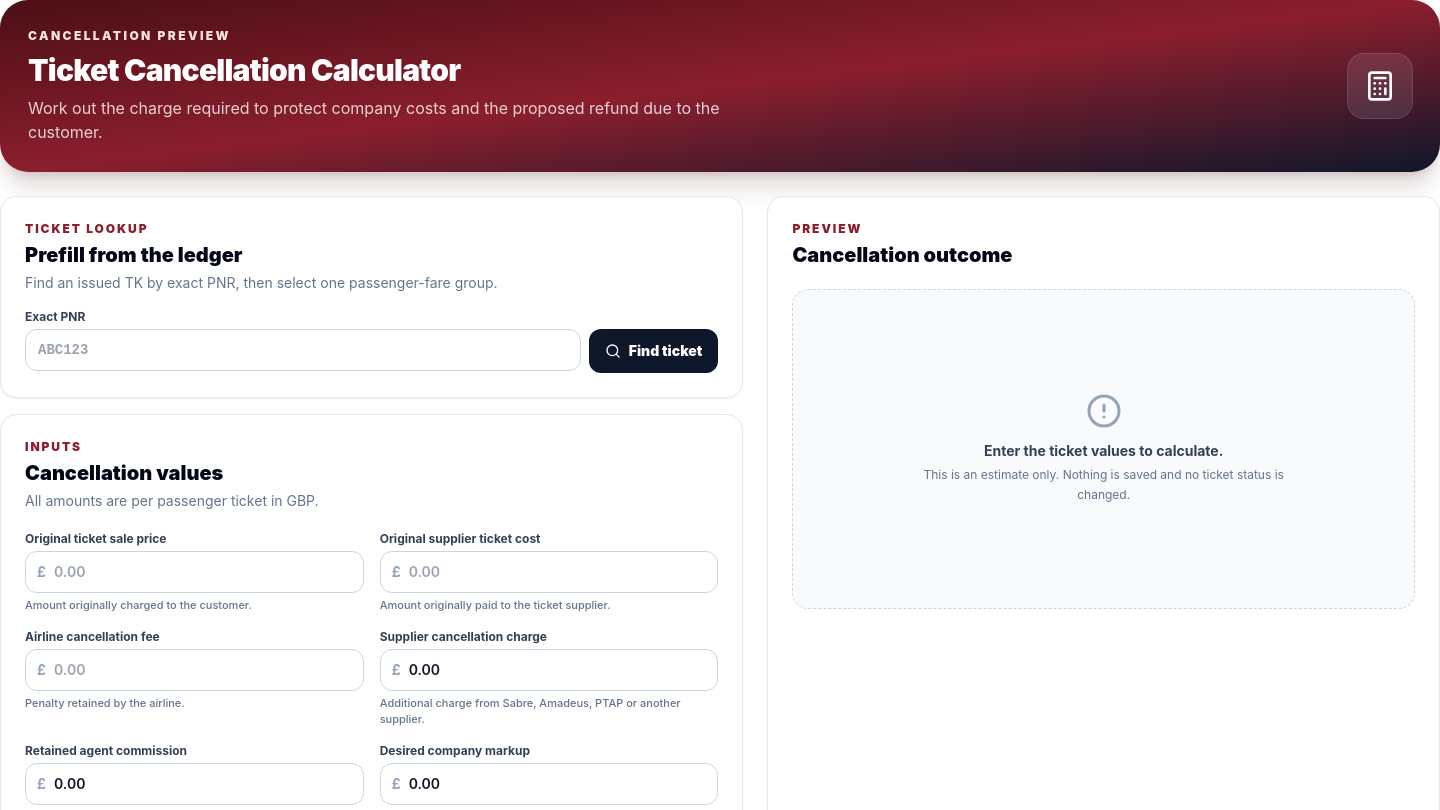
Test: TicketCancellationCalculator › requires review when charges exceed the sale price
In the field labelled "Original ticket sale price": (194, 572) [25,551,364,593], type "100.00"
In the field labelled "Original supplier ticket cost": (549, 572) [380,551,718,593], type "80.00"
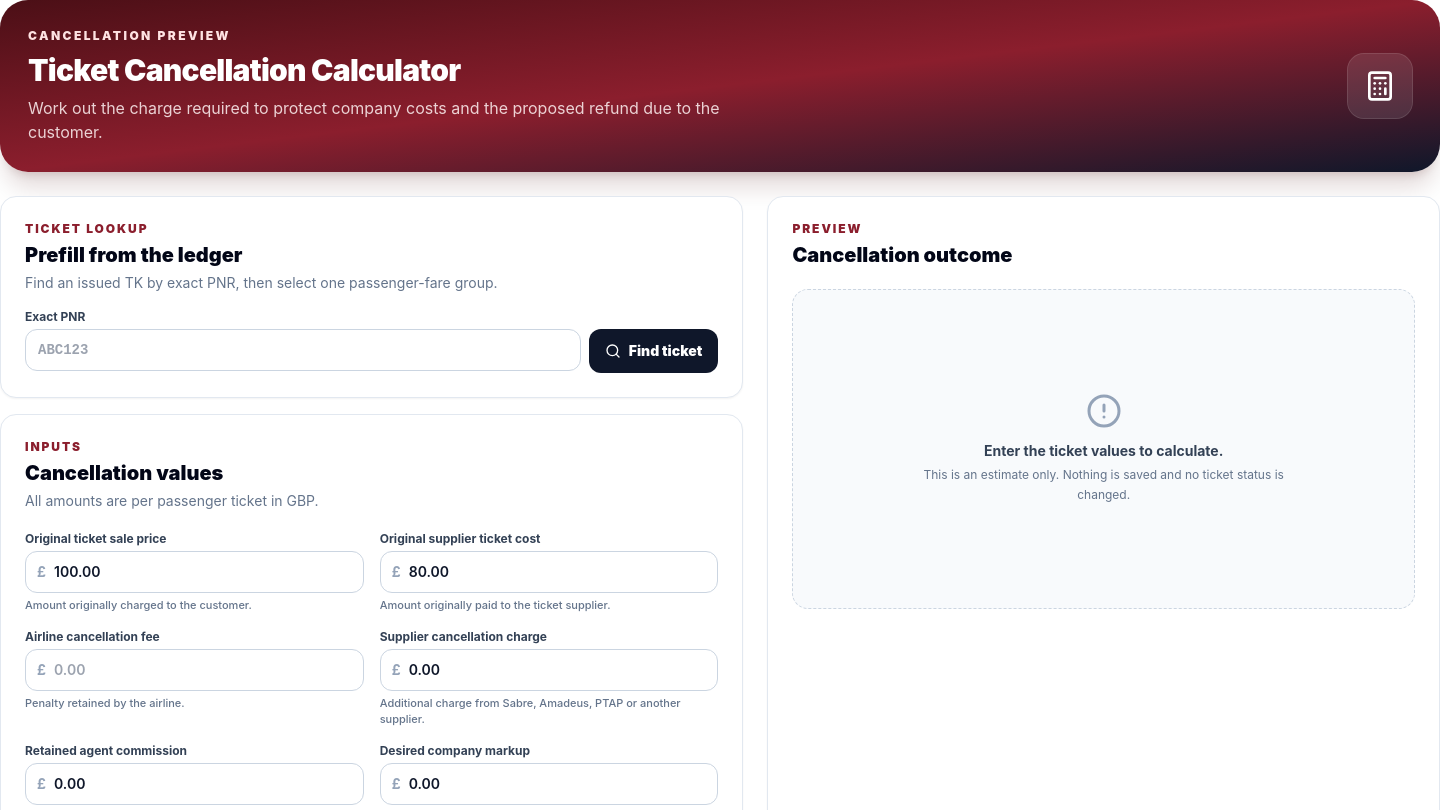
In the field labelled "Airline cancellation fee": (194, 670) [25,649,364,691], type "90.00"
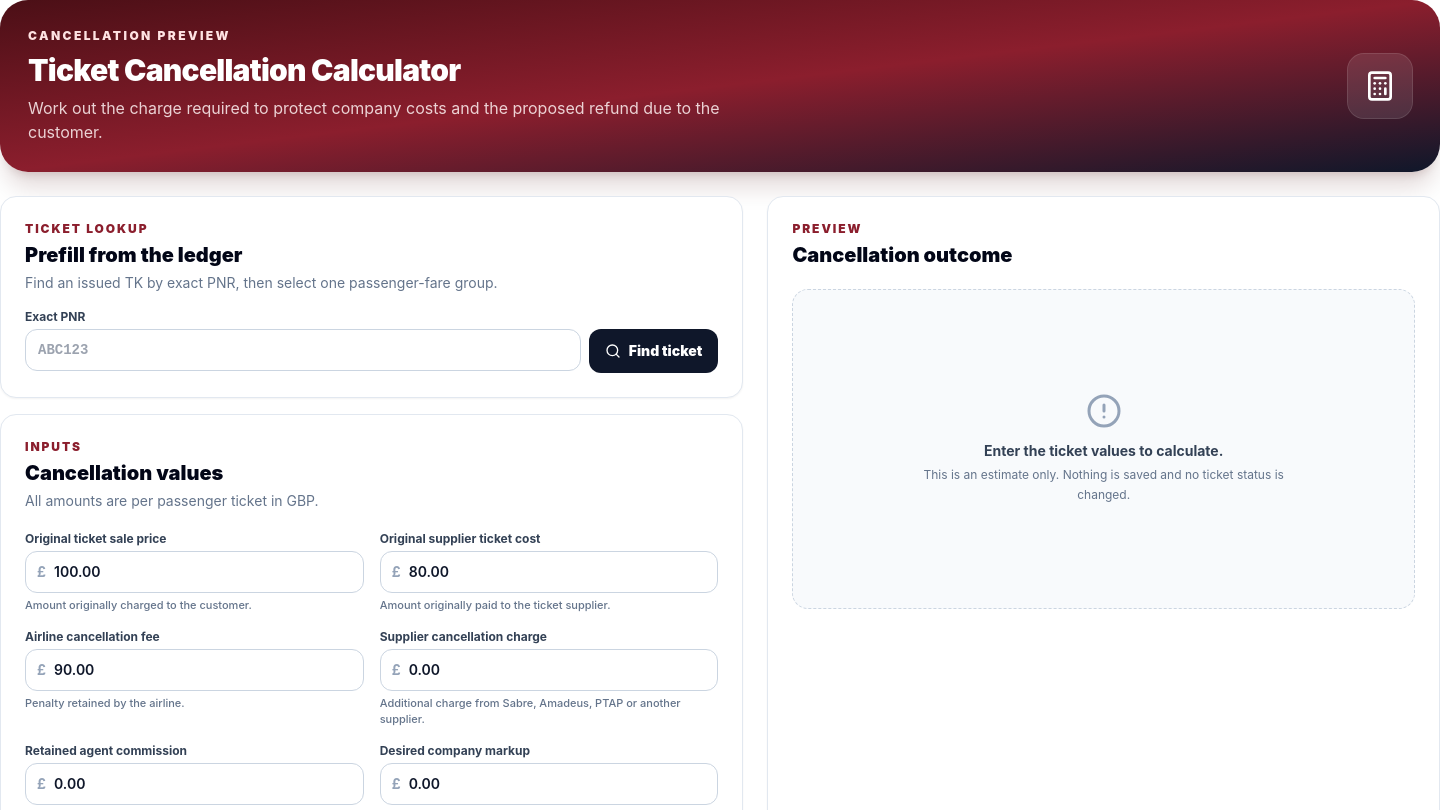
In the field labelled "Supplier cancellation charge": (549, 670) [380,649,718,691], type "20.00"
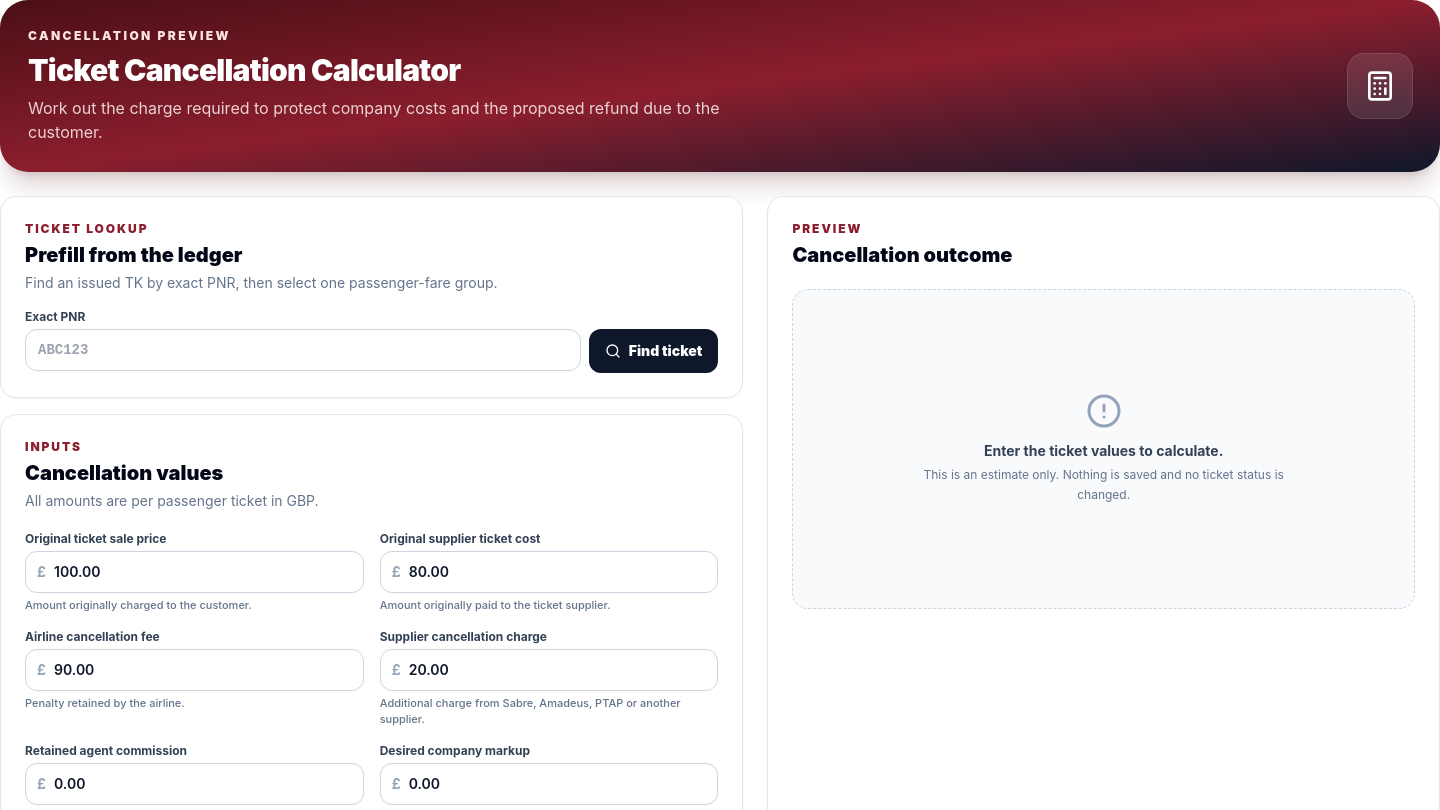
In the field labelled "Retained agent commission": (194, 784) [25,763,364,805], type "5.00"
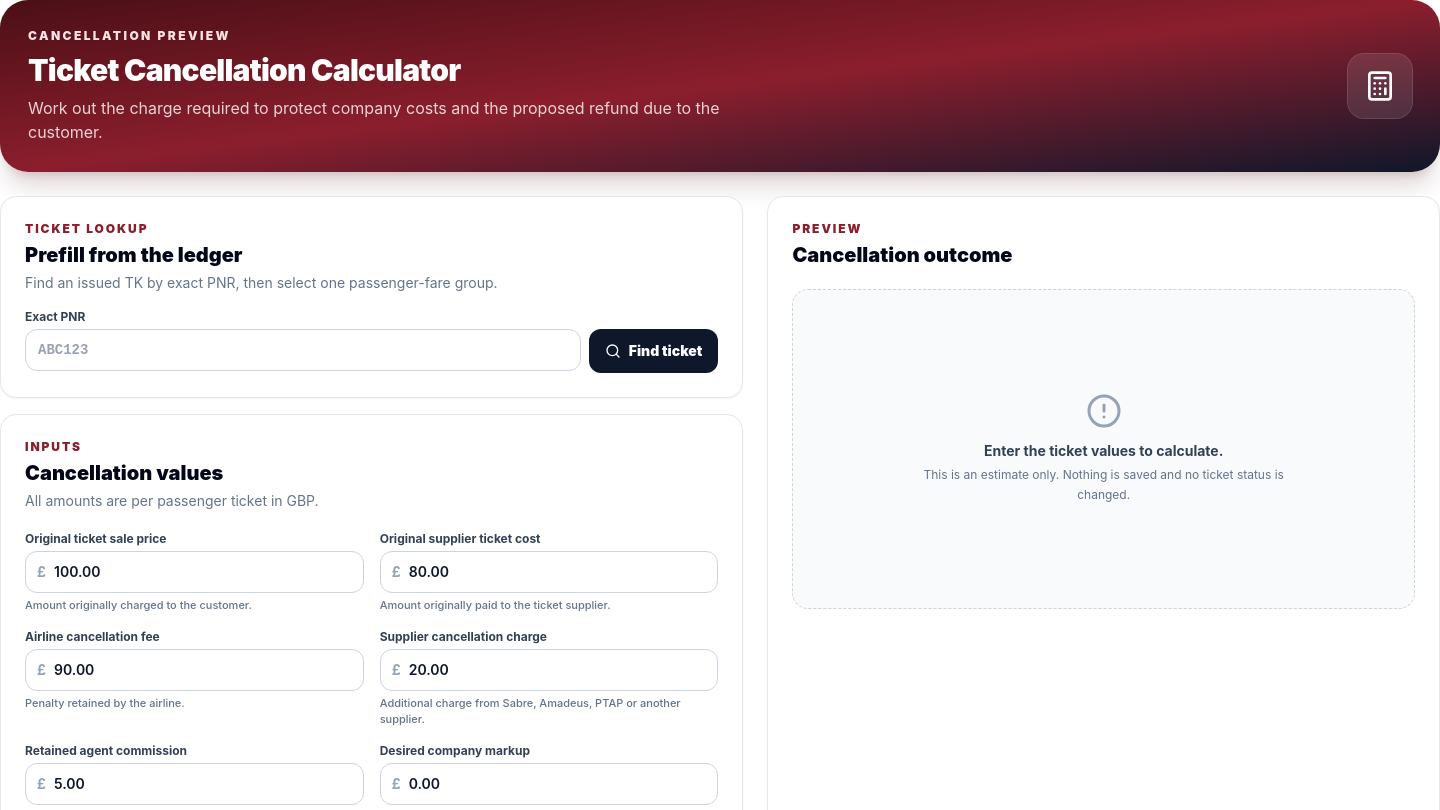
In the field labelled "Desired company markup": (549, 784) [380,763,718,805], type "10.00"
(page scrolled)
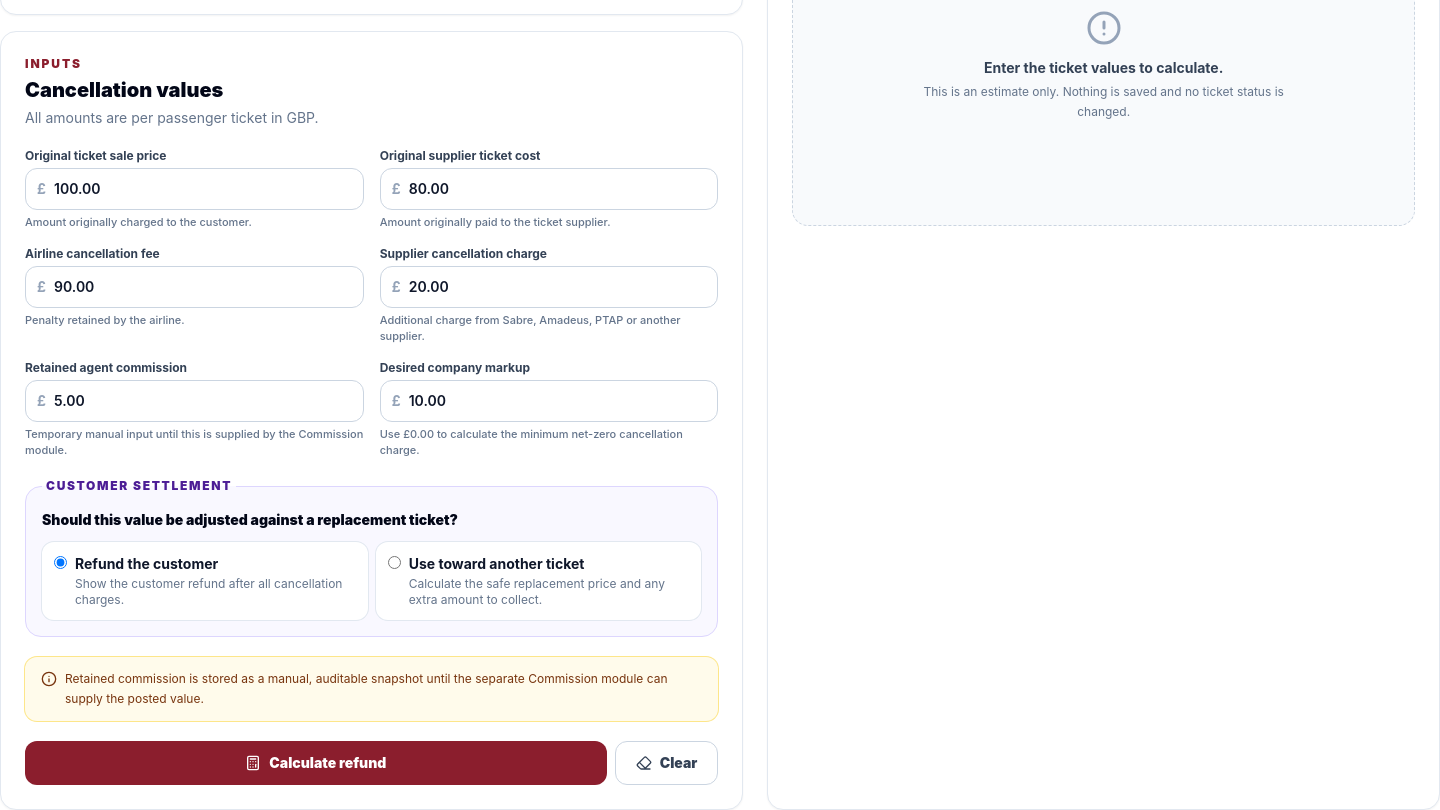
Click the button "Calculate refund": click(316, 763) [25,741,607,785]
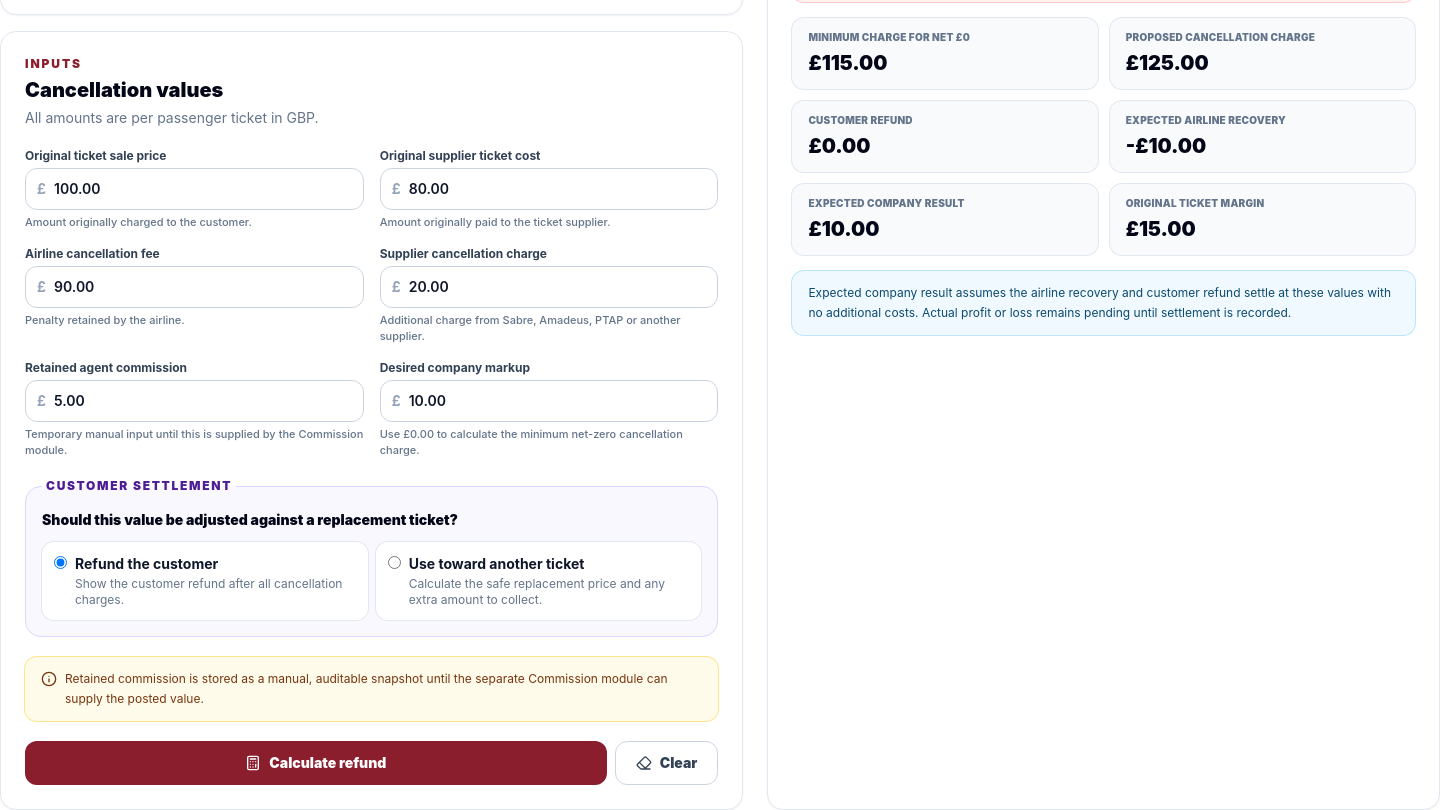
Check: the text "£0.00" is shown, box [808,134,870,158]
